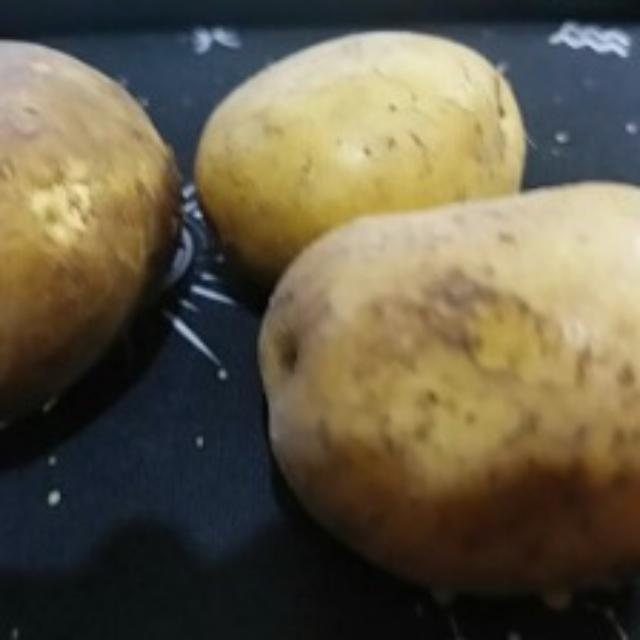Damaged potato: (254, 186, 638, 614)
Potato: (194, 25, 536, 294), (0, 31, 184, 465)
